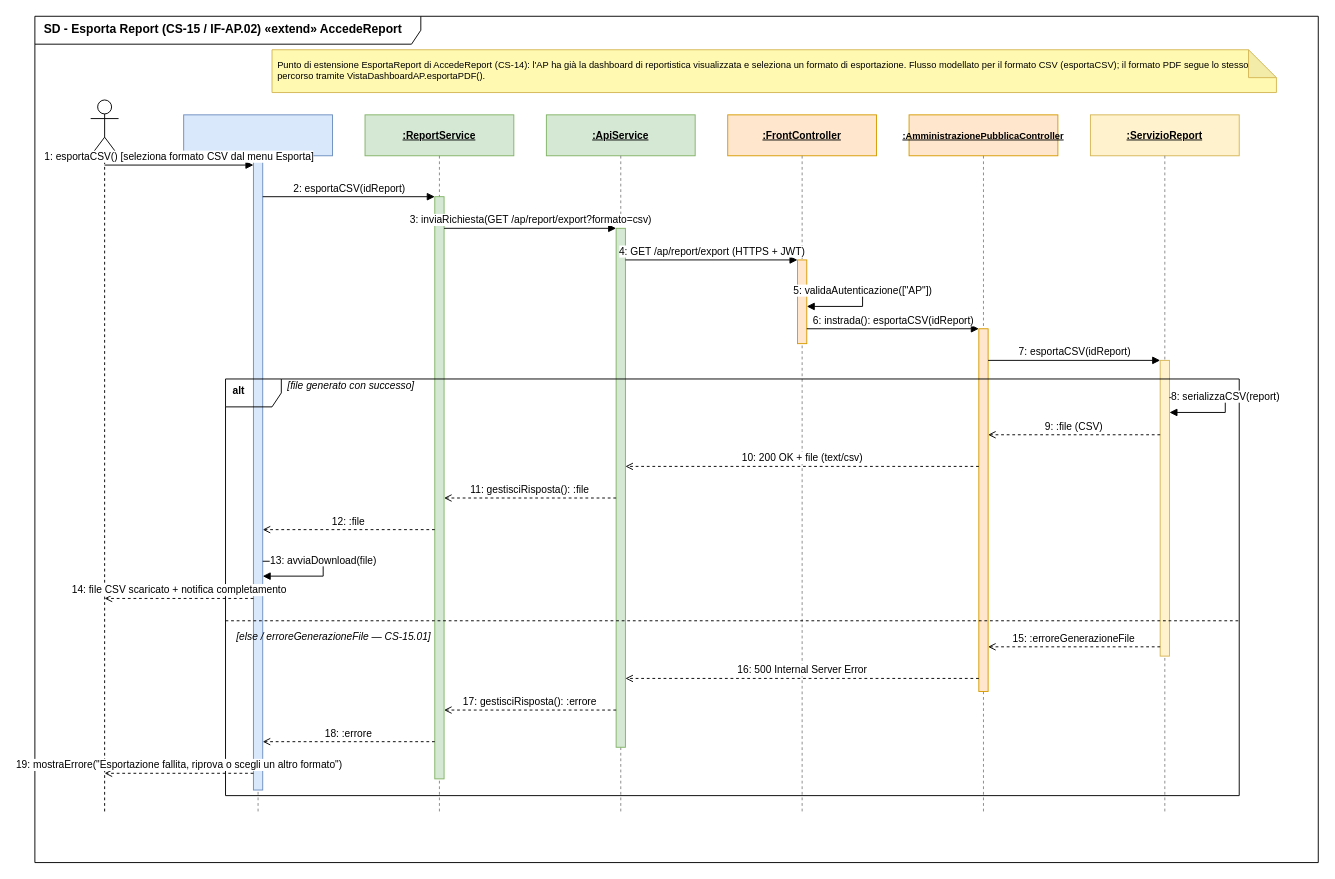
This 1335x879 diagram has some shape labels left out. Here are the shapes that lost their labels. From the top down, the centre of each, then its label:
At point (104, 127): ":AmministrazionePubblica".
At point (257, 135): ":VistaDashboardAP".
